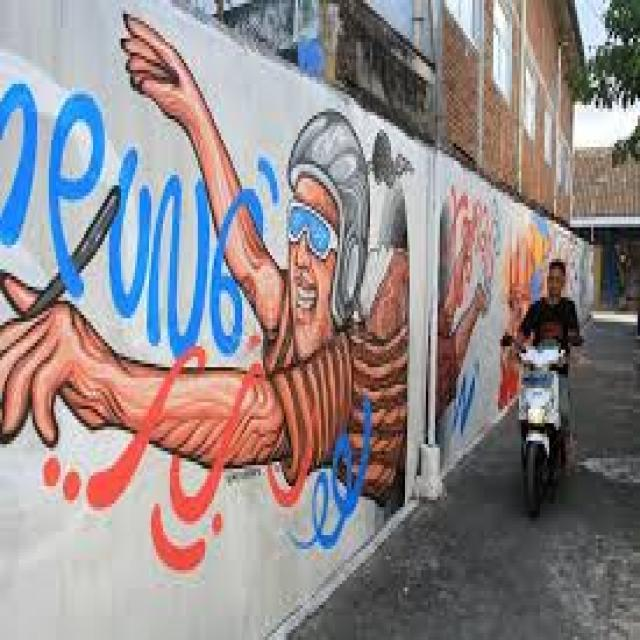-: (0, 16, 412, 572), (437, 188, 504, 440), (507, 217, 552, 415)
